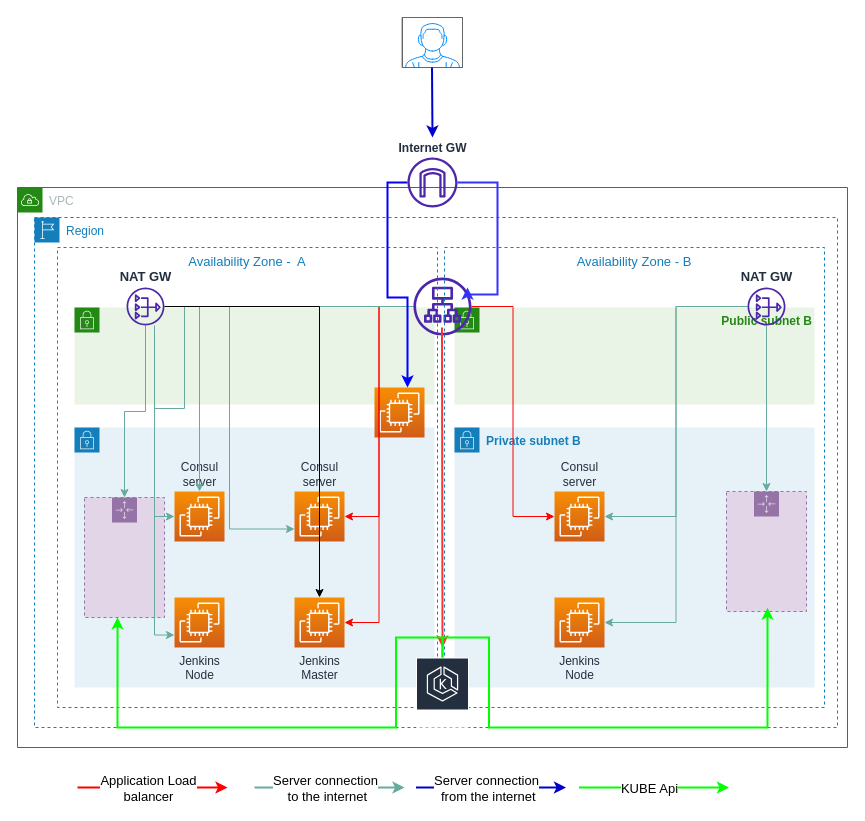
This 865x821 diagram has some shape labels left out. The box of each missing label's shape, as (x1, y1, x2, y2) in pixels:
ALB: (413, 277, 471, 335)
Amazon EKS: (415, 656, 469, 728)
Bastion server: (374, 386, 424, 438)
Group A - EKS Worker: (84, 496, 164, 618)
Group B - EKS Worker: (726, 490, 806, 612)
Private subnet A: (74, 426, 434, 688)
Public subnet A: (74, 306, 434, 404)
